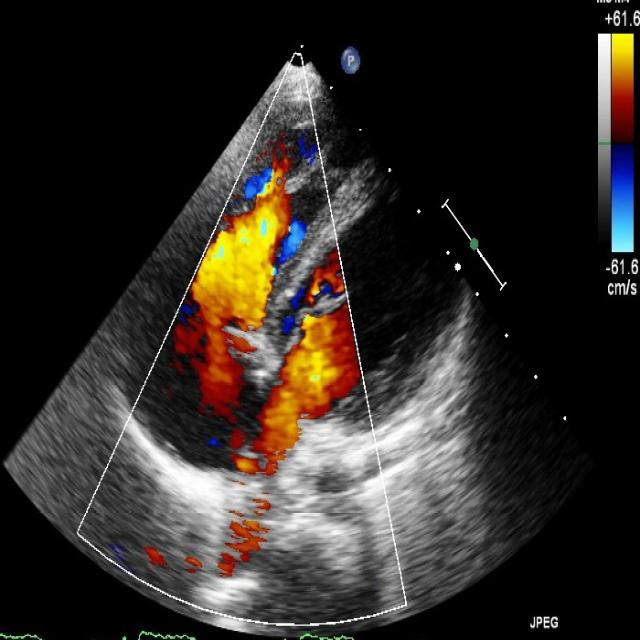ASDType2: (228, 351, 359, 465)
